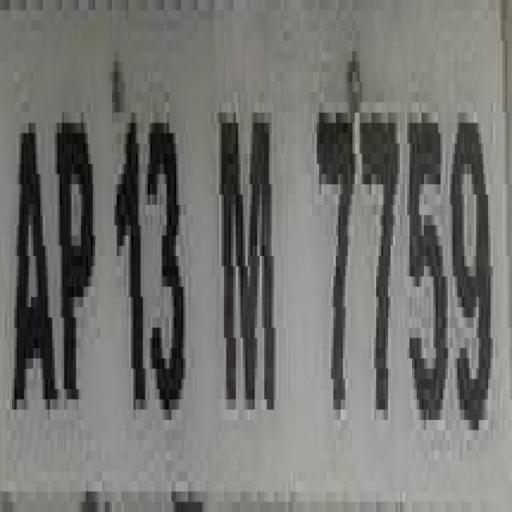number plate: (0, 20, 498, 512)
